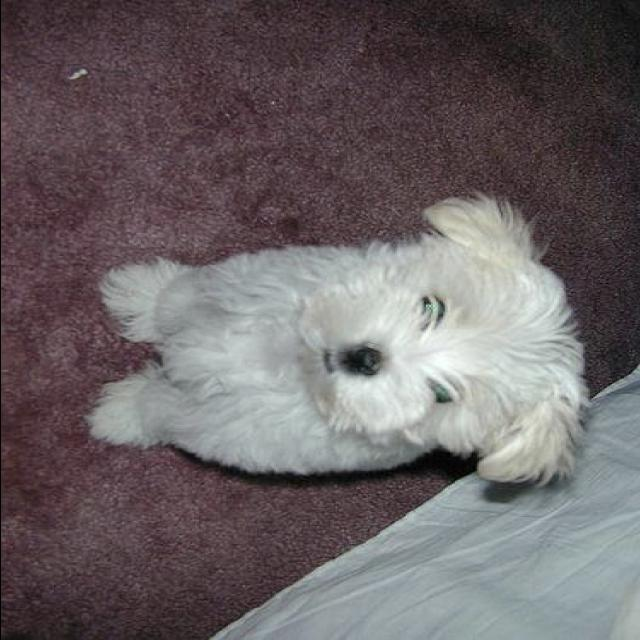maltese_dog: (85, 192, 589, 485)
